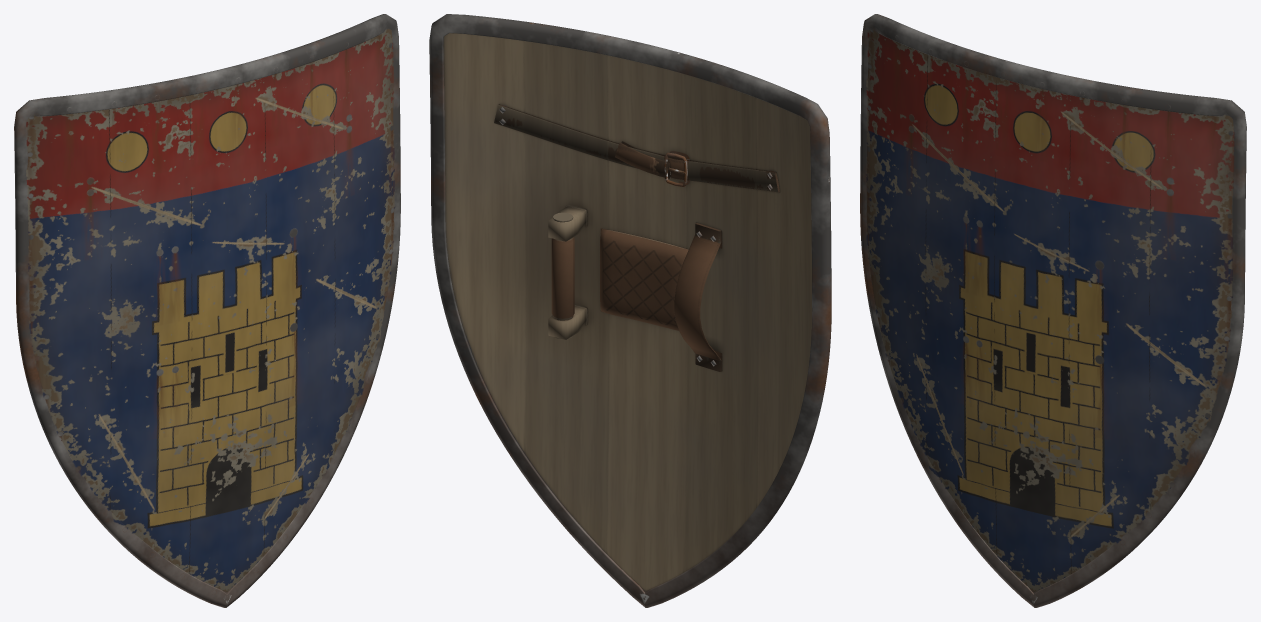
The model's file is SM_HeaterShield.fbx.
3 renders of one model, left to right at view 1: azimuth 30°, elevation 25°; view 2: azimuth 150°, elevation 25°; view 3: azimuth 330°, elevation 25°, orthographic. The views are drawn at different scales.
Visible parts, largest first — view 1: SM_HeaterShield; view 2: SM_HeaterShield; view 3: SM_HeaterShield.
Part boxes in pixels (bbox=[...]): SM_HeaterShield: bbox=[14, 14, 400, 607]; SM_HeaterShield: bbox=[429, 14, 831, 607]; SM_HeaterShield: bbox=[860, 14, 1246, 607].
Size of the model in its own units: 63.74 by 7.74 by 85.74.
